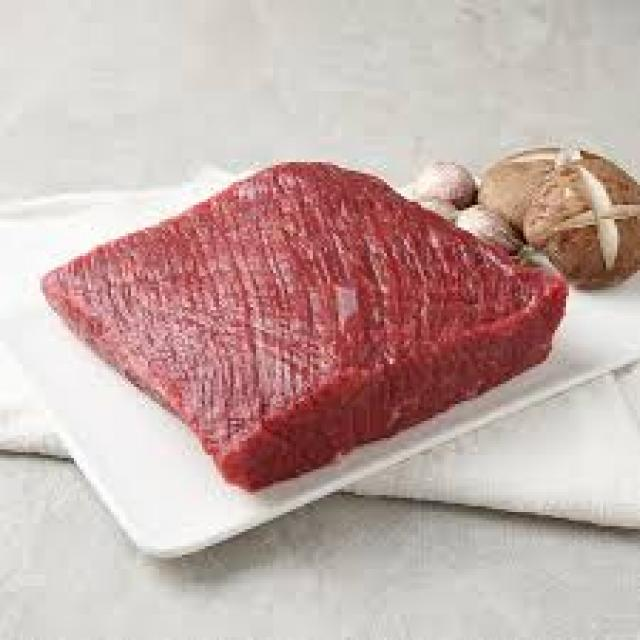beef: (46, 162, 569, 491)
